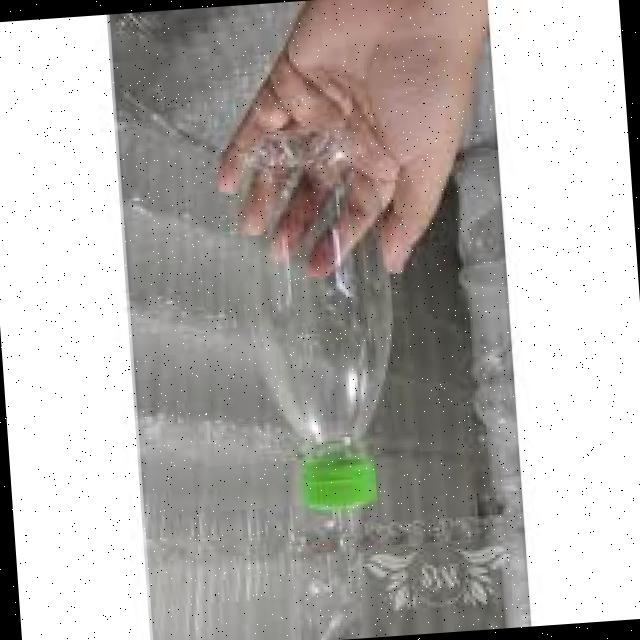bottle: (211, 89, 437, 529)
